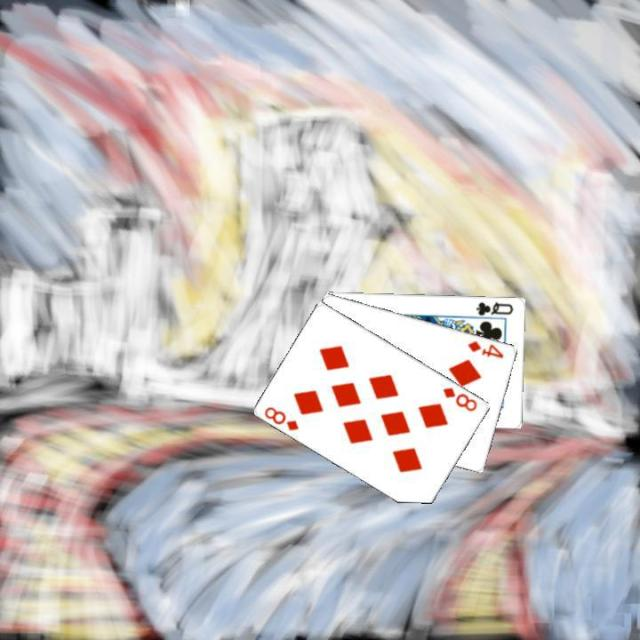4D: (464, 336, 506, 360)
8D: (439, 383, 479, 413), (260, 403, 300, 432)
QC: (472, 298, 515, 316)
